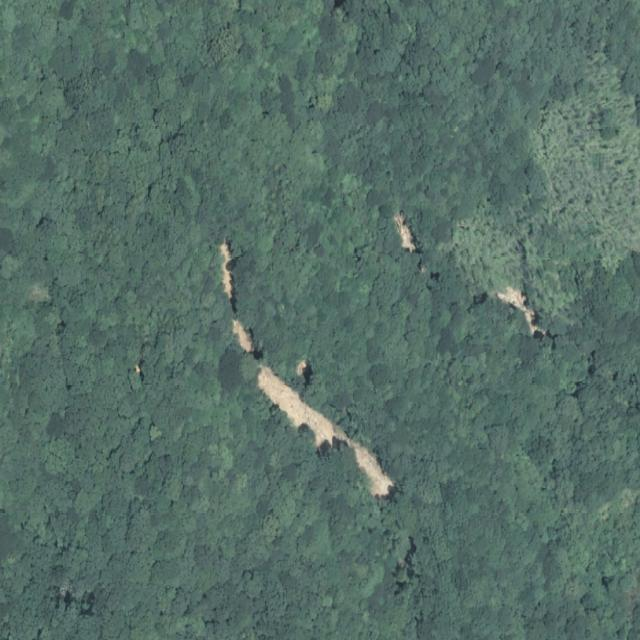landslide: (258, 365, 395, 498), (220, 240, 234, 312), (233, 317, 256, 355)
